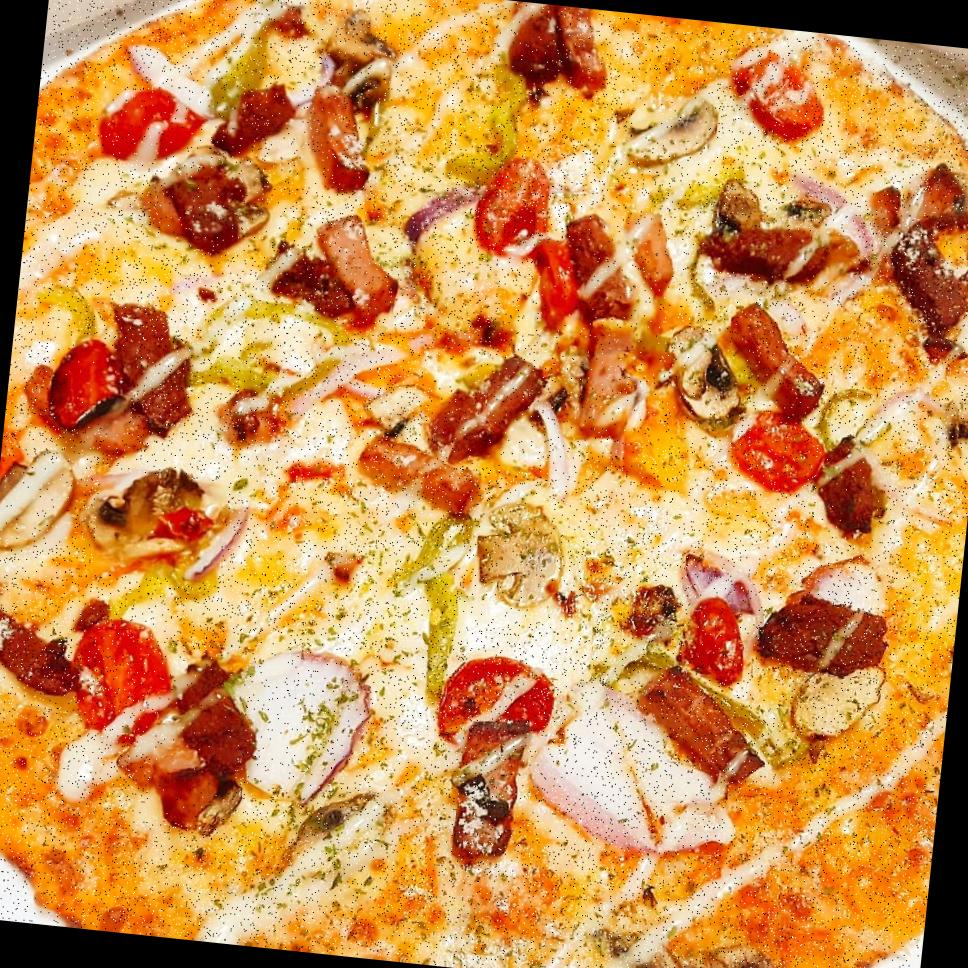Ham: (548, 210, 684, 444), (638, 660, 788, 790), (145, 650, 246, 826), (755, 582, 890, 680), (452, 717, 531, 862), (495, 2, 607, 101), (159, 168, 279, 256), (812, 436, 888, 547), (0, 595, 79, 698)
Mushroom: (91, 469, 228, 584), (470, 500, 574, 626), (622, 86, 720, 182), (668, 330, 747, 444), (323, 11, 400, 127), (0, 455, 81, 550)
Onion: (526, 696, 745, 857), (242, 641, 368, 808)
Pepperoni: (203, 73, 379, 191), (418, 350, 542, 474), (876, 187, 968, 351), (278, 217, 402, 337), (715, 304, 828, 432), (702, 222, 856, 286), (48, 334, 137, 434)
Pizza: (0, 0, 968, 968)
Tomatoes: (421, 644, 568, 733), (74, 607, 170, 736), (713, 39, 825, 148), (88, 88, 213, 168), (471, 144, 552, 266), (737, 416, 826, 497), (684, 591, 756, 681), (528, 242, 590, 335)
